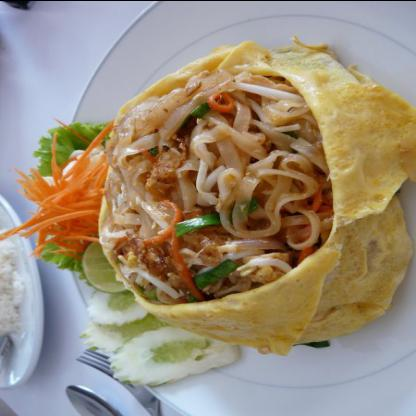Pad Thai: (75, 32, 415, 372)
